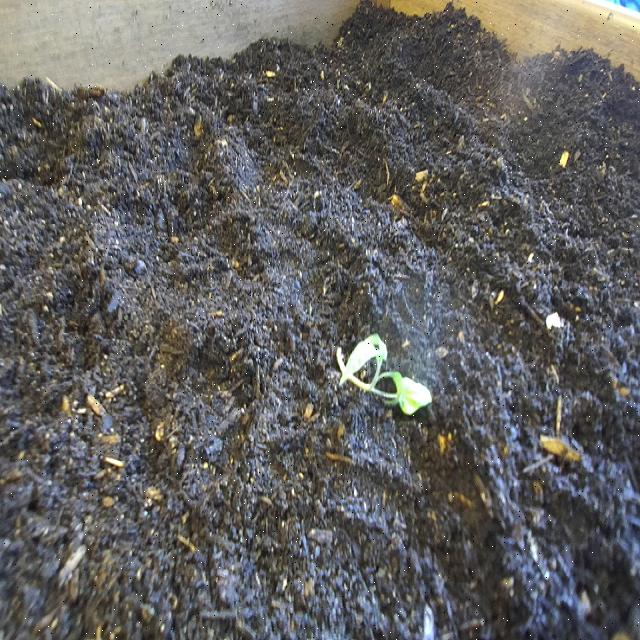Unhealthy: (334, 328, 435, 436)
